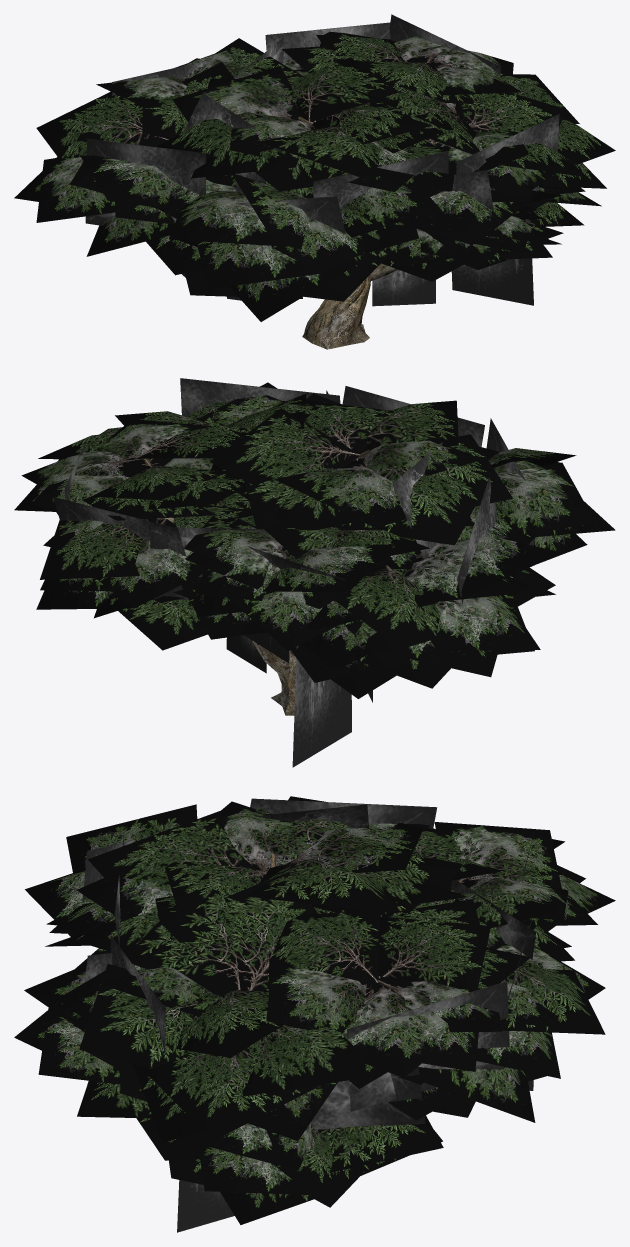
File: 3Tree.FBX
The picture shows the model from 3 angles, top to bottom: view 1: azimuth 30°, elevation 25°; view 2: azimuth 150°, elevation 25°; view 3: azimuth 270°, elevation 25°; orthographic projection. The views are drawn at different scales.
Parts seen in each view (by area): view 1: LV_M6_Tree_MonsterhabitatTree01A_PM_CYJ; view 2: LV_M6_Tree_MonsterhabitatTree01A_PM_CYJ; view 3: LV_M6_Tree_MonsterhabitatTree01A_PM_CYJ.
Boxes of the visible parts, box(x1,y1,x2,y2) form: LV_M6_Tree_MonsterhabitatTree01A_PM_CYJ: box(14, 14, 615, 349); LV_M6_Tree_MonsterhabitatTree01A_PM_CYJ: box(14, 378, 615, 767); LV_M6_Tree_MonsterhabitatTree01A_PM_CYJ: box(14, 796, 615, 1232).
Bounding box in the file's own units: 342 × 163 × 285.
